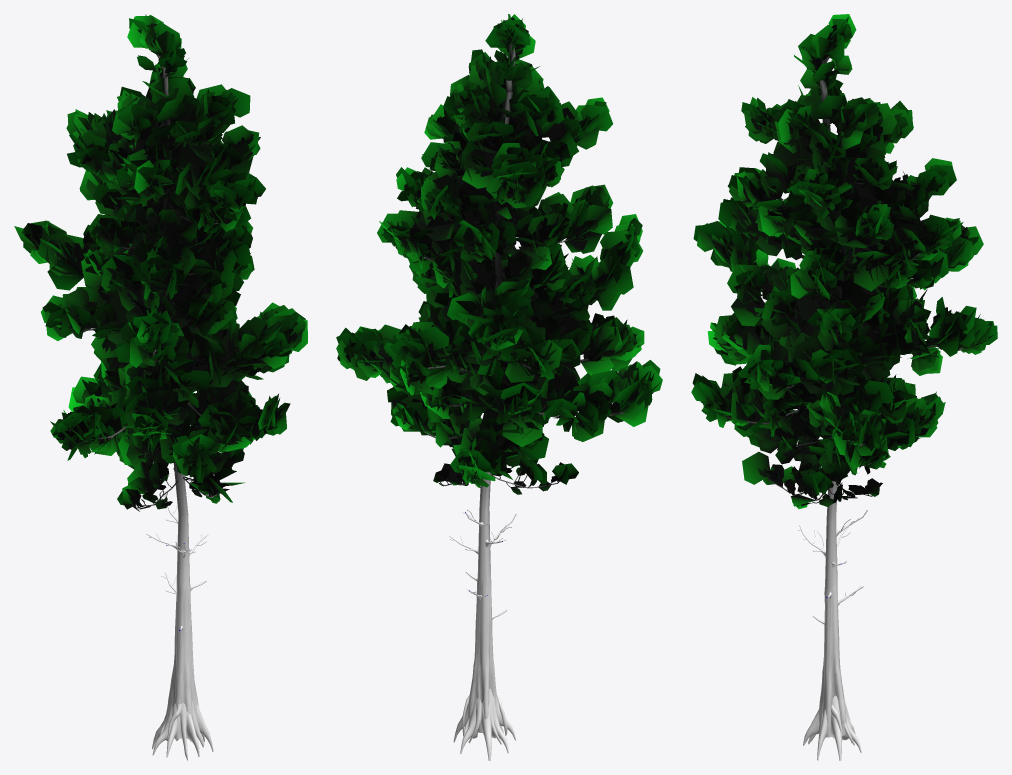
Rendered from PW_Tree_Spruce_01_02 Hero.fbx.
3 renders of one model, left to right at view 1: azimuth 30°, elevation 25°; view 2: azimuth 150°, elevation 25°; view 3: azimuth 270°, elevation 25°, orthographic. The views are drawn at different scales.
Parts seen in each view (by area): view 1: PW_Tree_Hero_Spruce_1_LOD0; view 2: PW_Tree_Hero_Spruce_1_LOD0; view 3: PW_Tree_Hero_Spruce_1_LOD0.
Part boxes in pixels (<box>): PW_Tree_Hero_Spruce_1_LOD0: <box>14,14,307,760</box>; PW_Tree_Hero_Spruce_1_LOD0: <box>336,14,662,760</box>; PW_Tree_Hero_Spruce_1_LOD0: <box>691,14,997,760</box>.
Size of what is drawn, in the model's own units: 606 by 1520 by 588.
